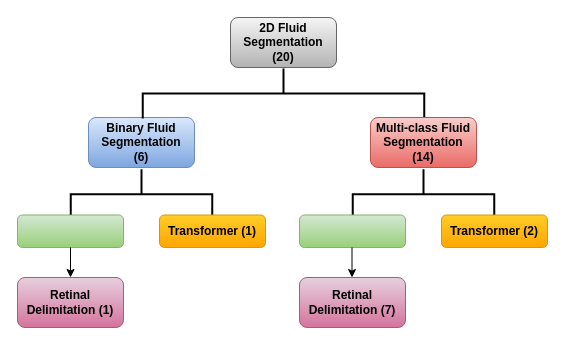
Image size: 565x345. Some labels were removed from this diagram. Each missing label, with the centre of its shape:
"CNN (12)" belongs at point (352, 231).
"CNN (5)" belongs at point (70, 231).
